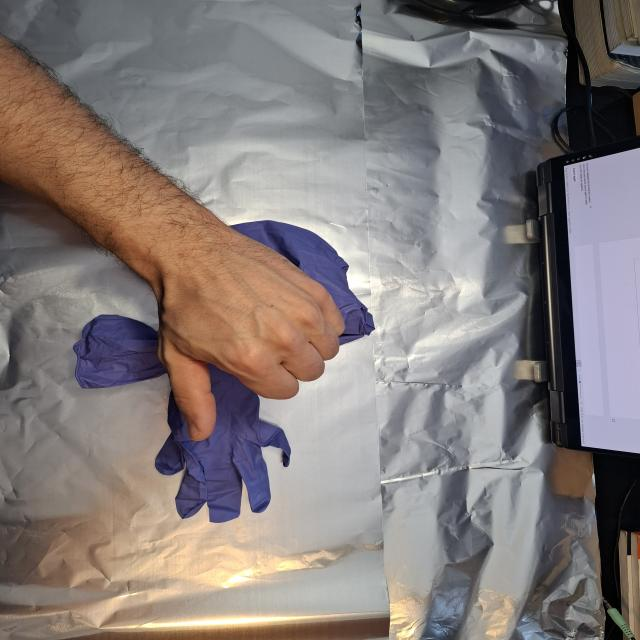glove_off: (150, 229, 349, 443)
